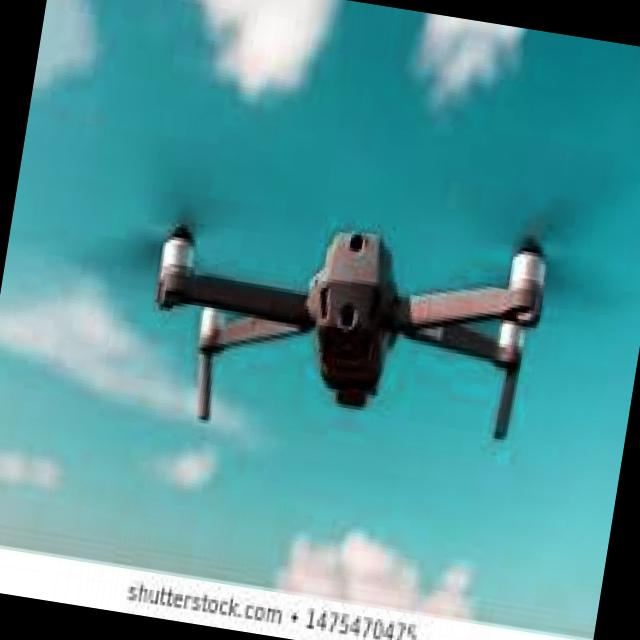drone: (62, 112, 618, 480)
